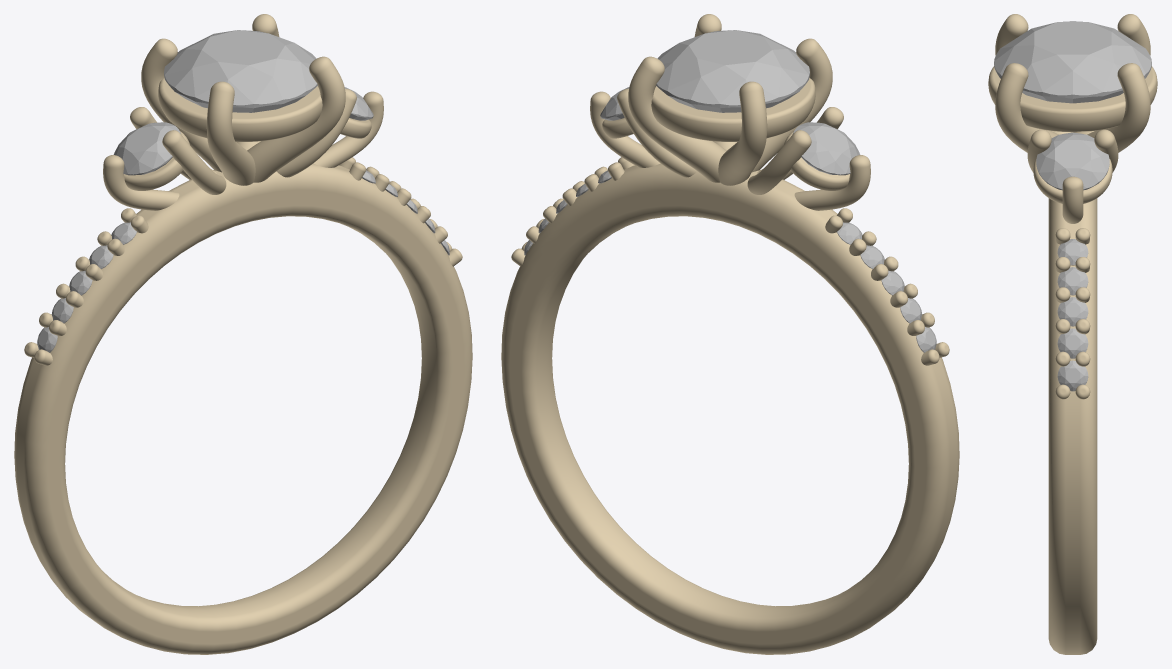
The model's file is chapelhills_monahan.glb.
3 renders of one model, left to right at view 1: azimuth 30°, elevation 25°; view 2: azimuth 150°, elevation 25°; view 3: azimuth 270°, elevation 25°, orthographic.
Parts seen in each view (by area): view 1: Object_12_/Yellow Gold-87f698dc-0eb6-4cef-8db8-defce6dc7ba8_, Diamond_Round_12, Bezel_2_/Yellow Gold-15e2f2fd-ef2d-4612-a59d-d58f3de0a6a1_8_, Object_8_/Yellow Gold-15e2f2fd-ef2d-4612-a59d-d58f3de0a6a1_1, Object_9_/Yellow Gold-15e2f2fd-ef2d-4612-a59d-d58f3de0a6a1_1, Diamond_Round, Object_10_/Yellow Gold-15e2f2fd-ef2d-4612-a59d-d58f3de0a6a1_, Object_5_/Yellow Gold-15e2f2fd-ef2d-4612-a59d-d58f3de0a6a1_5, Object_3_/Yellow Gold-15e2f2fd-ef2d-4612-a59d-d58f3de0a6a1_3, Object_6_/Yellow Gold-15e2f2fd-ef2d-4612-a59d-d58f3de0a6a1_6, Object_2_/Yellow Gold-15e2f2fd-ef2d-4612-a59d-d58f3de0a6a1_2, Bezel; view 2: Object_12_/Yellow Gold-87f698dc-0eb6-4cef-8db8-defce6dc7ba8_, Diamond_Round_12, Bezel_2_/Yellow Gold-15e2f2fd-ef2d-4612-a59d-d58f3de0a6a1_8_, Object_11_/Yellow Gold-15e2f2fd-ef2d-4612-a59d-d58f3de0a6a1_, Object_10_/Yellow Gold-15e2f2fd-ef2d-4612-a59d-d58f3de0a6a1_, Diamond_Round, Object_9_/Yellow Gold-15e2f2fd-ef2d-4612-a59d-d58f3de0a6a1_1, Object_5_/Yellow Gold-15e2f2fd-ef2d-4612-a59d-d58f3de0a6a1_5, Object_4_/Yellow Gold-15e2f2fd-ef2d-4612-a59d-d58f3de0a6a1_4, Object_6_/Yellow Gold-15e2f2fd-ef2d-4612-a59d-d58f3de0a6a1_6, Object_7_/Yellow Gold-15e2f2fd-ef2d-4612-a59d-d58f3de0a6a1_7, Bezel; view 3: Object_12_/Yellow Gold-87f698dc-0eb6-4cef-8db8-defce6dc7ba8_, Diamond_Round_12, Bezel_2_/Yellow Gold-15e2f2fd-ef2d-4612-a59d-d58f3de0a6a1_8_, Diamond_Round_13, Object_8_/Yellow Gold-15e2f2fd-ef2d-4612-a59d-d58f3de0a6a1_1, Object_11_/Yellow Gold-15e2f2fd-ef2d-4612-a59d-d58f3de0a6a1_, Object_6_/Yellow Gold-15e2f2fd-ef2d-4612-a59d-d58f3de0a6a1_6, Bezel_3_/Yellow Gold-15e2f2fd-ef2d-4612-a59d-d58f3de0a6a1_9_, Object_10_/Yellow Gold-15e2f2fd-ef2d-4612-a59d-d58f3de0a6a1_, Object_9_/Yellow Gold-15e2f2fd-ef2d-4612-a59d-d58f3de0a6a1_1, Diamond_Round_7, Diamond_Round_8 (+5 smaller).
Boxes of the visible parts, x1,y1,x2,y2 form: Object_12_/Yellow Gold-87f698dc-0eb6-4cef-8db8-defce6dc7ba8_: (14,163,472,654); Diamond_Round_12: (164,30,317,112); Bezel_2_/Yellow Gold-15e2f2fd-ef2d-4612-a59d-d58f3de0a6a1_8_: (158,78,322,141); Object_8_/Yellow Gold-15e2f2fd-ef2d-4612-a59d-d58f3de0a6a1_1: (247,56,345,182); Object_9_/Yellow Gold-15e2f2fd-ef2d-4612-a59d-d58f3de0a6a1_1: (206,81,255,185); Diamond_Round: (113,122,180,175); Object_10_/Yellow Gold-15e2f2fd-ef2d-4612-a59d-d58f3de0a6a1_: (141,38,221,172); Object_5_/Yellow Gold-15e2f2fd-ef2d-4612-a59d-d58f3de0a6a1_5: (103,155,179,210); Object_3_/Yellow Gold-15e2f2fd-ef2d-4612-a59d-d58f3de0a6a1_3: (162,130,226,194); Object_6_/Yellow Gold-15e2f2fd-ef2d-4612-a59d-d58f3de0a6a1_6: (313,91,383,167); Object_2_/Yellow Gold-15e2f2fd-ef2d-4612-a59d-d58f3de0a6a1_2: (276,88,356,177); Bezel: (124,131,189,190); Object_12_/Yellow Gold-87f698dc-0eb6-4cef-8db8-defce6dc7ba8_: (501,163,959,654); Diamond_Round_12: (656,30,809,112); Bezel_2_/Yellow Gold-15e2f2fd-ef2d-4612-a59d-d58f3de0a6a1_8_: (651,78,815,141); Object_11_/Yellow Gold-15e2f2fd-ef2d-4612-a59d-d58f3de0a6a1_: (628,56,726,182); Object_10_/Yellow Gold-15e2f2fd-ef2d-4612-a59d-d58f3de0a6a1_: (718,81,767,185); Diamond_Round: (793,122,860,175); Object_9_/Yellow Gold-15e2f2fd-ef2d-4612-a59d-d58f3de0a6a1_1: (752,38,832,172); Object_5_/Yellow Gold-15e2f2fd-ef2d-4612-a59d-d58f3de0a6a1_5: (794,155,870,210); Object_4_/Yellow Gold-15e2f2fd-ef2d-4612-a59d-d58f3de0a6a1_4: (747,130,811,194); Object_6_/Yellow Gold-15e2f2fd-ef2d-4612-a59d-d58f3de0a6a1_6: (590,91,660,167); Object_7_/Yellow Gold-15e2f2fd-ef2d-4612-a59d-d58f3de0a6a1_7: (617,88,697,177); Bezel: (784,131,849,190); Object_12_/Yellow Gold-87f698dc-0eb6-4cef-8db8-defce6dc7ba8_: (1048,198,1097,654); Diamond_Round_12: (994,21,1151,103); Bezel_2_/Yellow Gold-15e2f2fd-ef2d-4612-a59d-d58f3de0a6a1_8_: (988,66,1157,132); Diamond_Round_13: (1036,132,1109,190); Object_8_/Yellow Gold-15e2f2fd-ef2d-4612-a59d-d58f3de0a6a1_1: (995,63,1058,152); Object_11_/Yellow Gold-15e2f2fd-ef2d-4612-a59d-d58f3de0a6a1_: (1087,63,1150,152); Object_6_/Yellow Gold-15e2f2fd-ef2d-4612-a59d-d58f3de0a6a1_6: (1062,176,1083,223); Bezel_3_/Yellow Gold-15e2f2fd-ef2d-4612-a59d-d58f3de0a6a1_9_: (1033,159,1112,203); Object_10_/Yellow Gold-15e2f2fd-ef2d-4612-a59d-d58f3de0a6a1_: (1073,14,1150,134); Object_9_/Yellow Gold-15e2f2fd-ef2d-4612-a59d-d58f3de0a6a1_1: (995,14,1072,134); Diamond_Round_7: (1057,360,1088,391); Diamond_Round_8: (1057,328,1088,358).
Size of the model in its own units: 0.0209 by 0.0268 by 0.00693.
